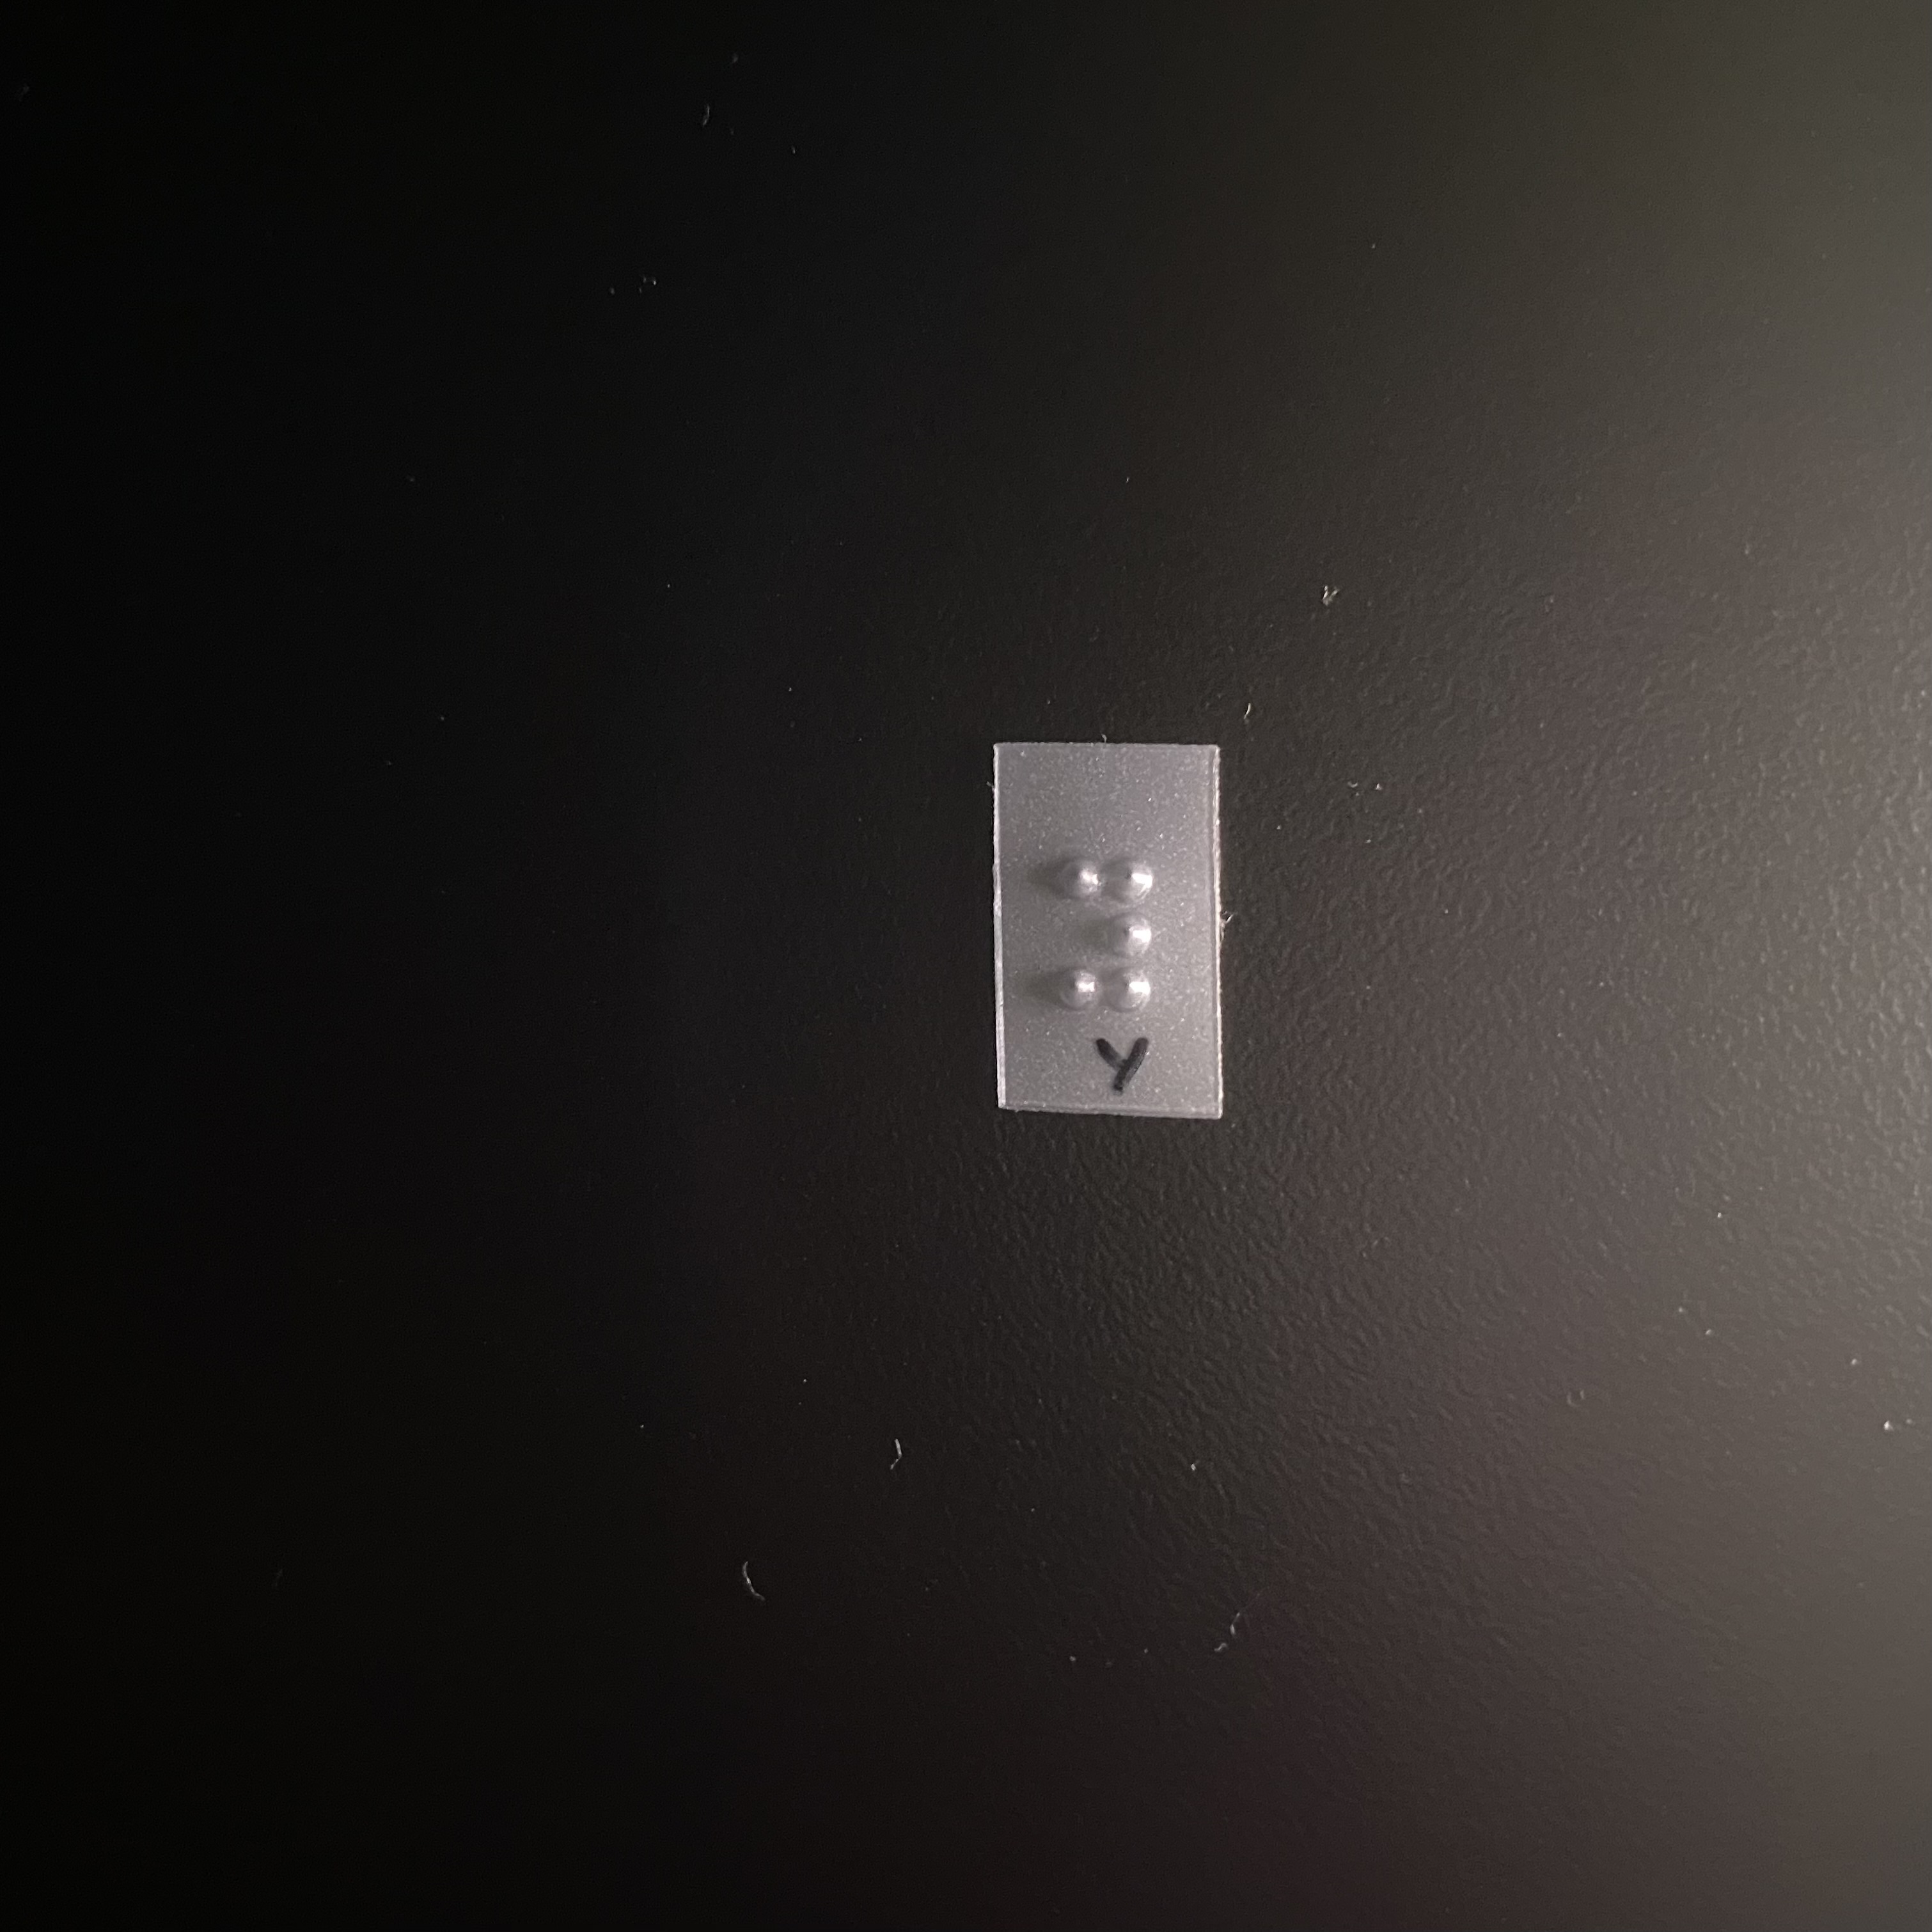y: (1025, 845, 1159, 1035)
